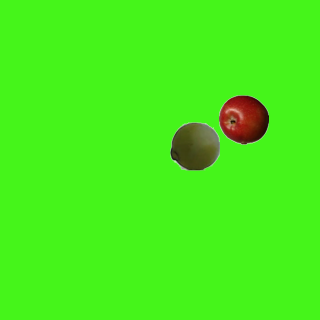Apple Braeburn: (218, 94, 268, 144)
Grape White 4: (169, 120, 219, 170)
